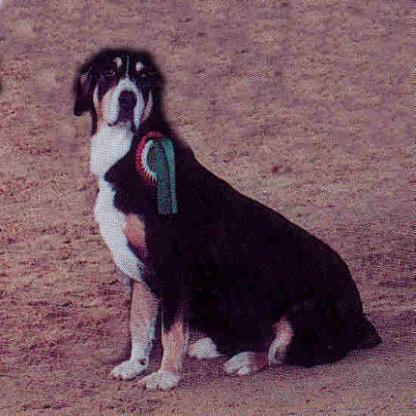EntleBucher: (70, 43, 381, 393)
